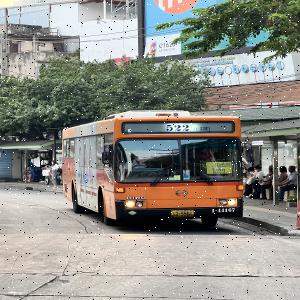BMTA-bus: (60, 111, 245, 229)
Bus Line Number: (161, 123, 211, 134)
Bus Side Number: (209, 207, 238, 213)
Destination Sign: (205, 162, 232, 174)
